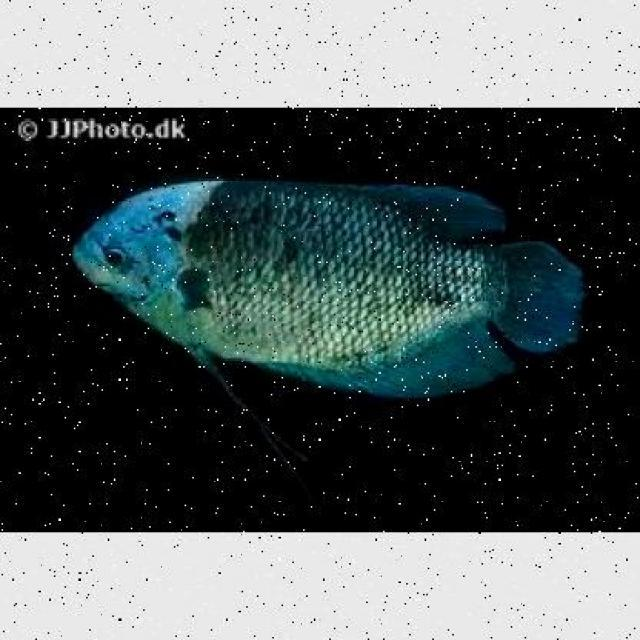gurame: (74, 181, 588, 404)
